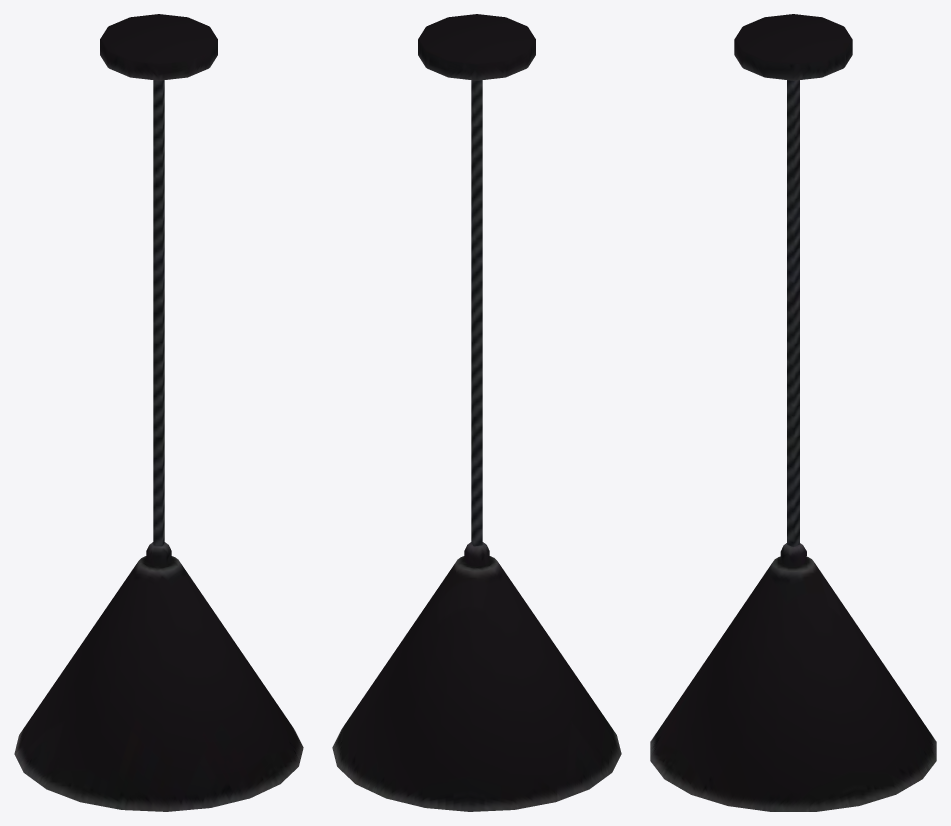
3 views of the same model, side by side, from view 1: azimuth 30°, elevation 25°; view 2: azimuth 150°, elevation 25°; view 3: azimuth 270°, elevation 25° (orthographic).
Size of the model in its own units: 5.56 by 15.29 by 5.56.
Materials: 1 (1 with a texture image).
